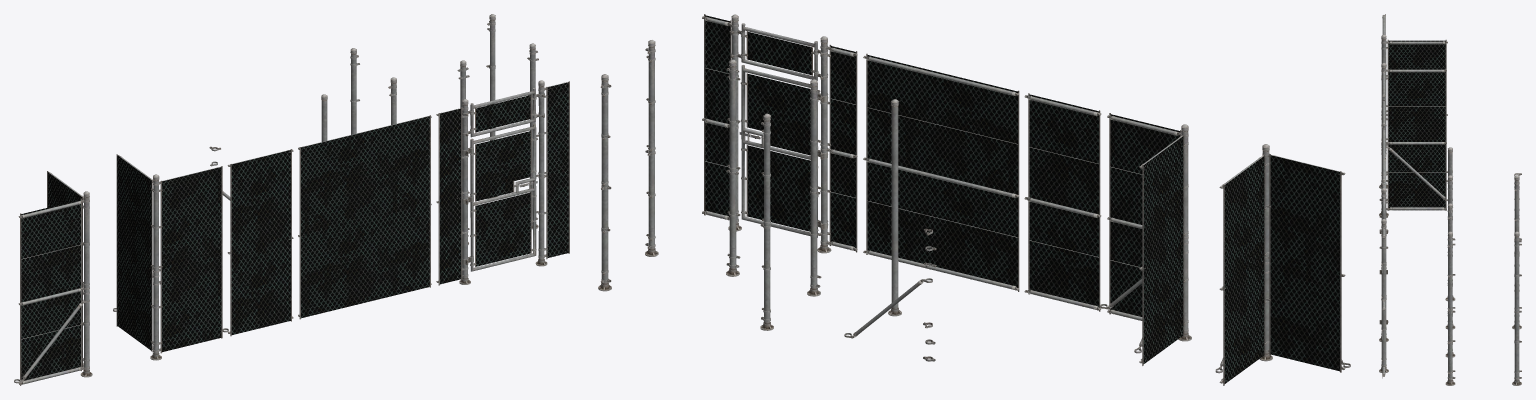
The model's file is modular_chainlink_fence_lod1.glb.
The picture shows the model from 3 angles, left to right: view 1: azimuth 30°, elevation 25°; view 2: azimuth 150°, elevation 25°; view 3: azimuth 270°, elevation 25°; orthographic projection. The views are drawn at different scales.
Parts seen in each view (by area): view 1: modular_chainlink_fence_door_gate, modular_chainlink_fence_door_latch; view 2: modular_chainlink_fence_door_gate, modular_chainlink_fence_door_latch; view 3: modular_chainlink_fence_door_gate, modular_chainlink_fence_door_latch.
Boxes of the visible parts, <box> form: modular_chainlink_fence_door_gate: <box>21,82,568,380</box>; modular_chainlink_fence_door_latch: <box>14,14,569,385</box>; modular_chainlink_fence_door_gate: <box>705,15,1339,383</box>; modular_chainlink_fence_door_latch: <box>598,14,1350,385</box>; modular_chainlink_fence_door_gate: <box>1388,40,1445,210</box>; modular_chainlink_fence_door_latch: <box>1379,14,1521,385</box>.
Size of the model in its own units: 8.12 by 2.52 by 2.15.
2 materials, 2 textured.
